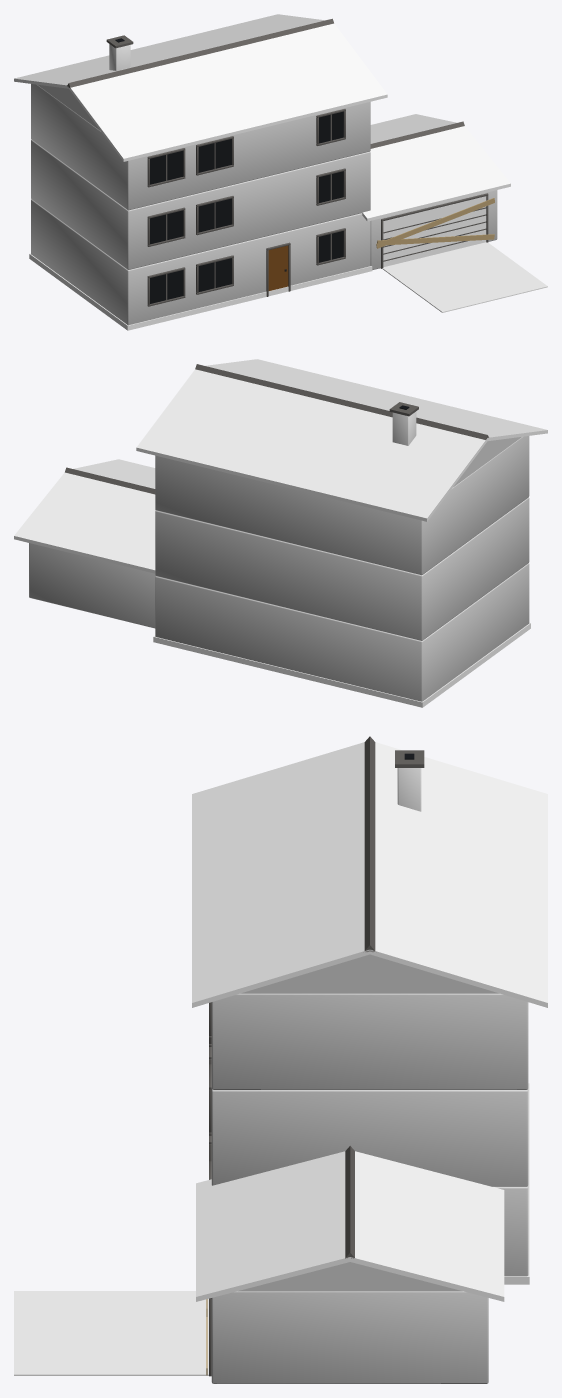
The model's file is bld_ranch_garage_3s.glb.
3 views of the same model, one above another, from view 1: azimuth 30°, elevation 25°; view 2: azimuth 150°, elevation 25°; view 3: azimuth 270°, elevation 25° (orthographic). The views are drawn at different scales.
Parts seen in each view (by area): view 1: rg_roof_front, rg_walls_s2, rg_walls, rg_walls_s3, rg_groof_front, rg_drive, rg_roof_back, rg_gdoor, rg_footing, rg_roof_cap, rg_groof_back, rg_garage (+15 smaller); view 2: rg_roof_back, rg_walls_s2, rg_walls, rg_walls_s3, rg_groof_back, rg_garage, rg_roof_front, rg_footing, rg_roof_cap, rg_groof_front, rg_roof_gable, rg_chim (+1 smaller); view 3: rg_roof_front, rg_roof_back, rg_walls_s3, rg_garage, rg_walls_s2, rg_groof_front, rg_groof_back, rg_drive, rg_roof_gable, rg_groof_gable, rg_roof_cap, rg_walls (+2 smaller).
Part boxes in pixels (left/top/right/bottom): rg_roof_front: left=69, top=23, right=387, bottom=161; rg_walls_s2: left=31, top=140, right=370, bottom=269; rg_walls: left=31, top=199, right=370, bottom=325; rg_walls_s3: left=31, top=84, right=370, bottom=210; rg_groof_front: left=362, top=126, right=510, bottom=221; rg_drive: left=382, top=242, right=547, bottom=312; rg_roof_back: left=14, top=14, right=324, bottom=88; rg_gdoor: left=383, top=196, right=486, bottom=267; rg_footing: left=29, top=253, right=372, bottom=330; rg_roof_cap: left=67, top=18, right=333, bottom=88; rg_groof_back: left=370, top=114, right=456, bottom=143; rg_garage: left=370, top=190, right=497, bottom=269; rg_roof_back: left=136, top=369, right=487, bottom=521; rg_walls_s2: left=155, top=497, right=529, bottom=640; rg_walls: left=155, top=563, right=529, bottom=701; rg_walls_s3: left=155, top=436, right=529, bottom=575; rg_groof_back: left=14, top=472, right=155, bottom=573; rg_garage: left=29, top=543, right=155, bottom=628; rg_roof_front: left=205, top=359, right=547, bottom=440; rg_footing: left=153, top=622, right=530, bottom=707; rg_roof_cap: left=195, top=364, right=488, bottom=439; rg_groof_front: left=73, top=459, right=155, bottom=488; rg_roof_gable: left=453, top=437, right=521, bottom=486; rg_chim: left=392, top=411, right=416, bottom=445; rg_roof_front: left=192, top=742, right=369, bottom=1007; rg_roof_back: left=370, top=742, right=547, bottom=1007; rg_walls_s3: left=211, top=993, right=528, bottom=1089; rg_garage: left=211, top=1291, right=488, bottom=1383; rg_walls_s2: left=211, top=1089, right=528, bottom=1186; rg_groof_front: left=196, top=1151, right=350, bottom=1301; rg_groof_back: left=350, top=1151, right=504, bottom=1301; rg_drive: left=14, top=1291, right=208, bottom=1375; rg_roof_gable: left=240, top=954, right=499, bottom=993; rg_groof_gable: left=238, top=1262, right=462, bottom=1291; rg_roof_cap: left=364, top=736, right=375, bottom=951; rg_walls: left=494, top=1185, right=528, bottom=1276.
Size of the model in its own units: 18.4 by 10.53 by 13.5.
